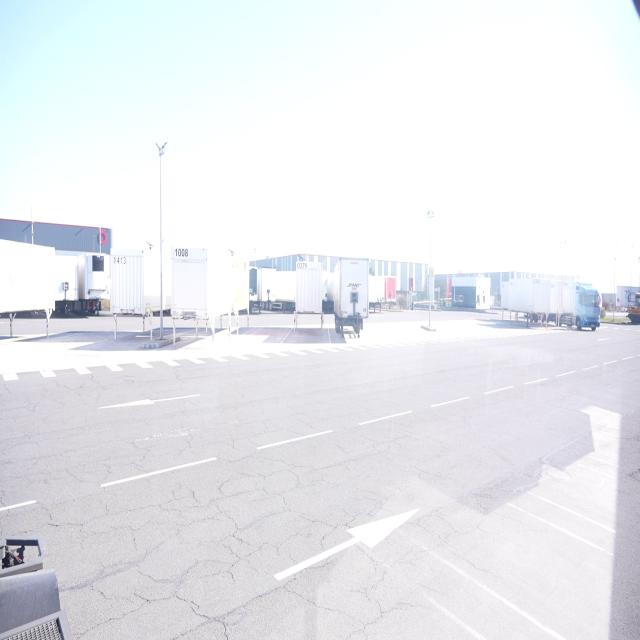Code: (106, 250, 134, 265), (172, 245, 190, 264), (295, 260, 311, 269)
